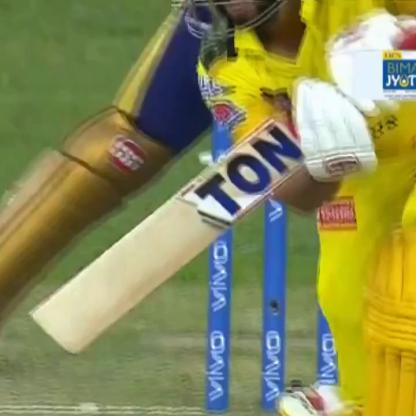bat: (26, 120, 318, 352)
